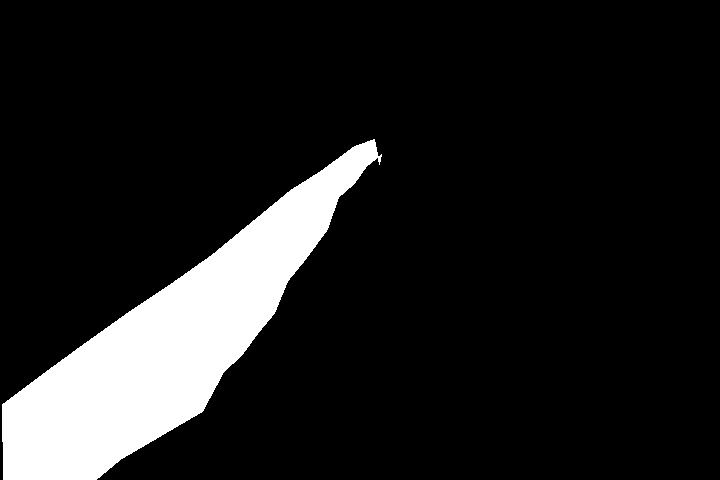Fire: (29, 143, 382, 436)
